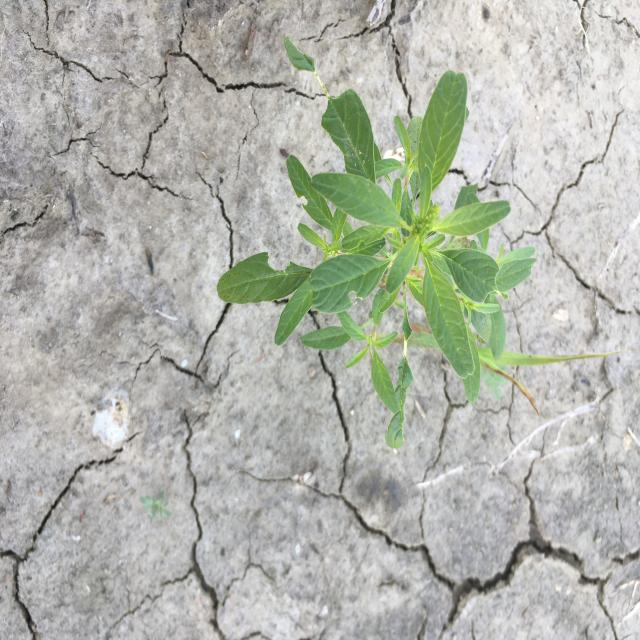Waterhemp: (216, 30, 538, 453)
